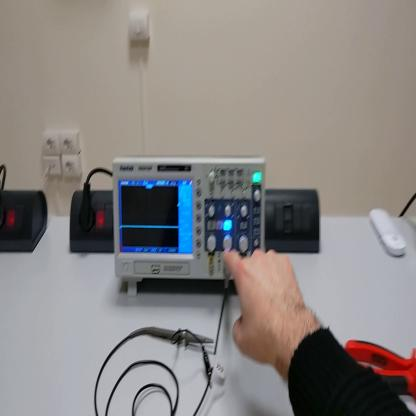hand: (223, 243, 309, 374)
oscilloscope: (115, 150, 271, 293)
oscilloscope probe tip: (143, 325, 216, 349)
pliers: (345, 338, 416, 402)
socket: (2, 189, 50, 255), (70, 192, 114, 256)
